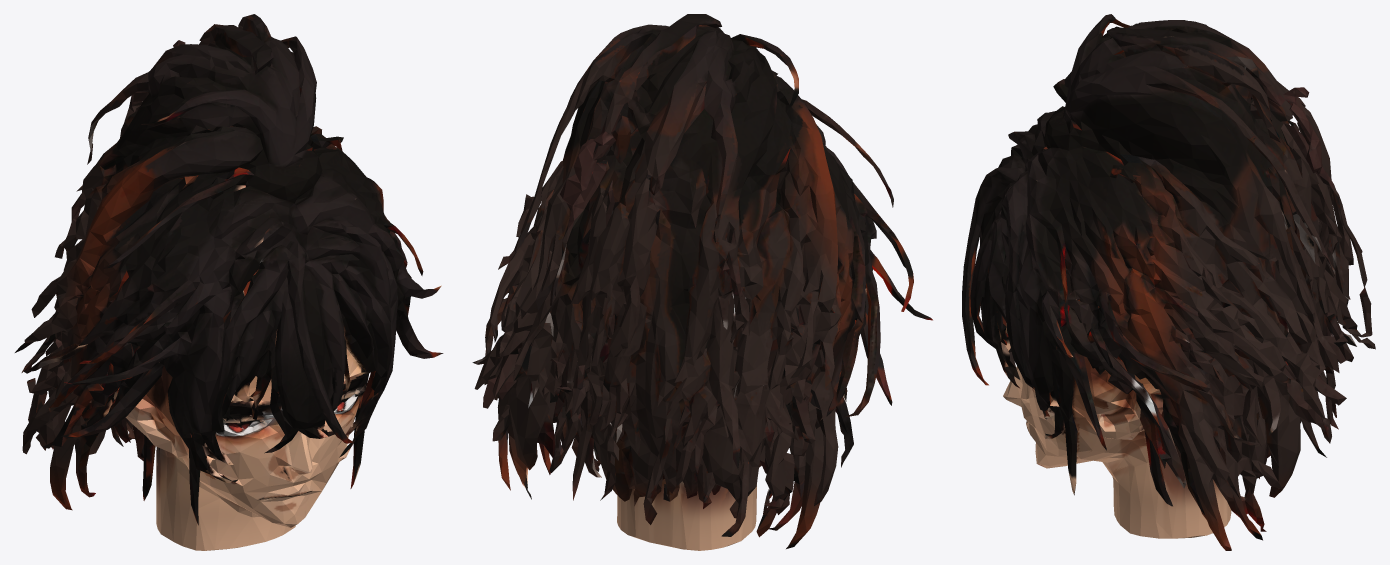
The model's file is side_soshiofficer_repaired_atlas.glb.
The picture shows the model from 3 angles, left to right: view 1: azimuth 30°, elevation 25°; view 2: azimuth 150°, elevation 25°; view 3: azimuth 270°, elevation 25°; orthographic projection.
Visible parts, largest first — view 1: temp_mesh.ply; view 2: temp_mesh.ply; view 3: temp_mesh.ply.
Boxes of the visible parts, <box> form: temp_mesh.ply: <box>15,14,443,550</box>; temp_mesh.ply: <box>472,14,932,550</box>; temp_mesh.ply: <box>962,14,1375,550</box>.
Size of the model in its own units: 1.65 by 1.97 by 1.52.
Materials: 1 (1 with a texture image).
